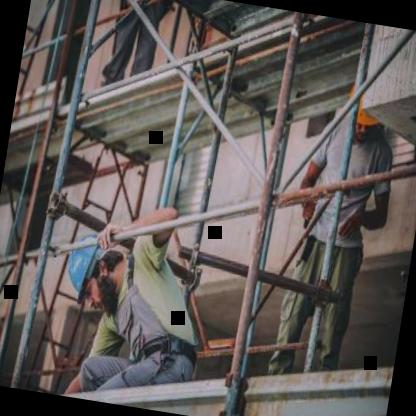helmet: (58, 231, 130, 321), (340, 74, 391, 146)
